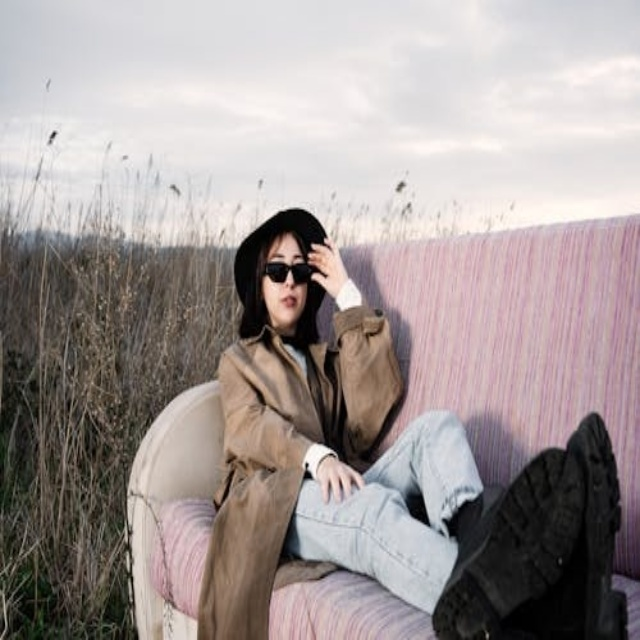Gafas: (260, 256, 305, 279)
Sin_guantes: (305, 231, 349, 292), (315, 450, 365, 502)
Sin_mascara: (275, 290, 300, 319)
